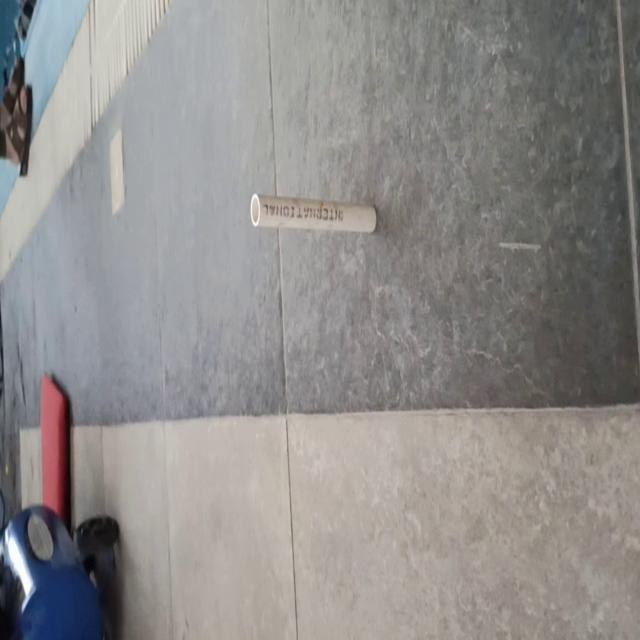Cube: (249, 191, 377, 235)
